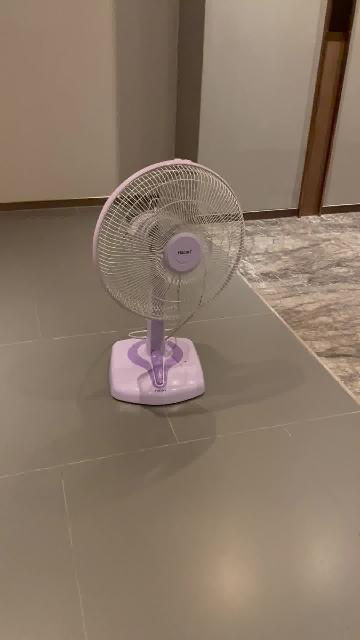Fan: (92, 159, 245, 407)
